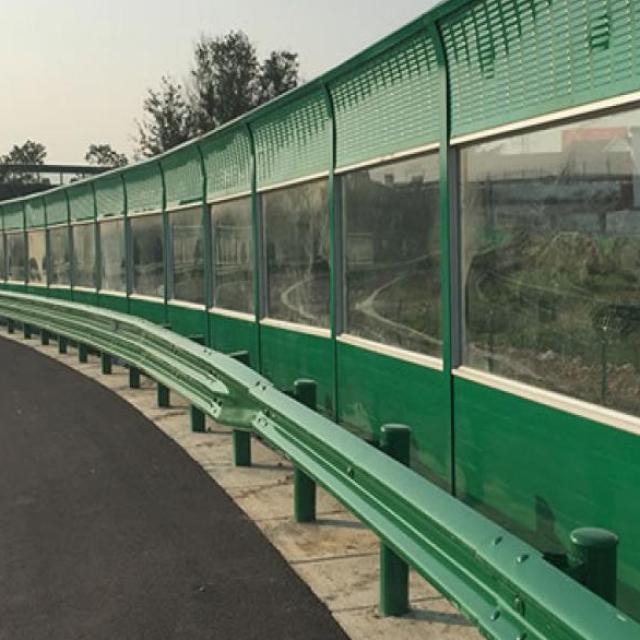Guard rail: (0, 291, 640, 640)
